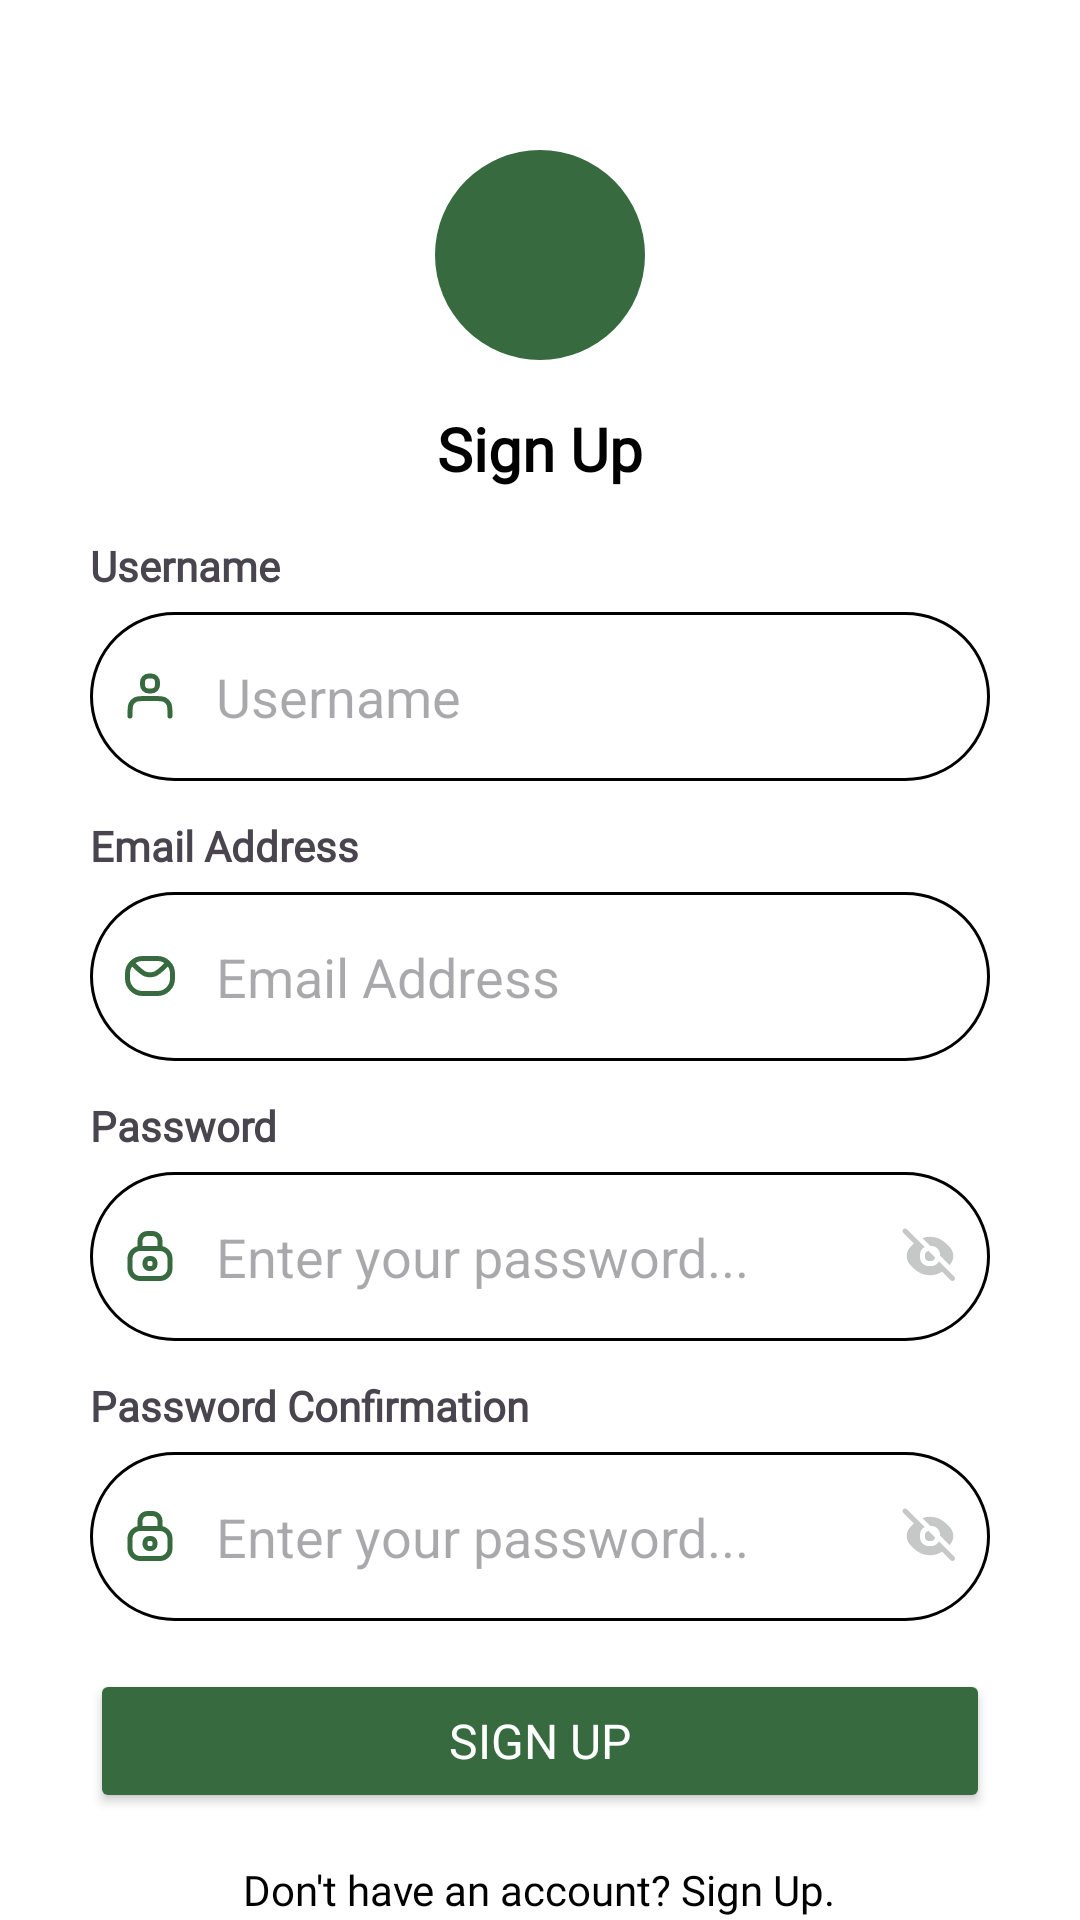

Icon bounding boxes for this 1080px×1920px phone screenshot, format (x1, y1, x2, y2):
eye: (902, 1228, 955, 1281), (902, 1508, 955, 1561)
gembok: (127, 1231, 173, 1281), (127, 1511, 173, 1561)
